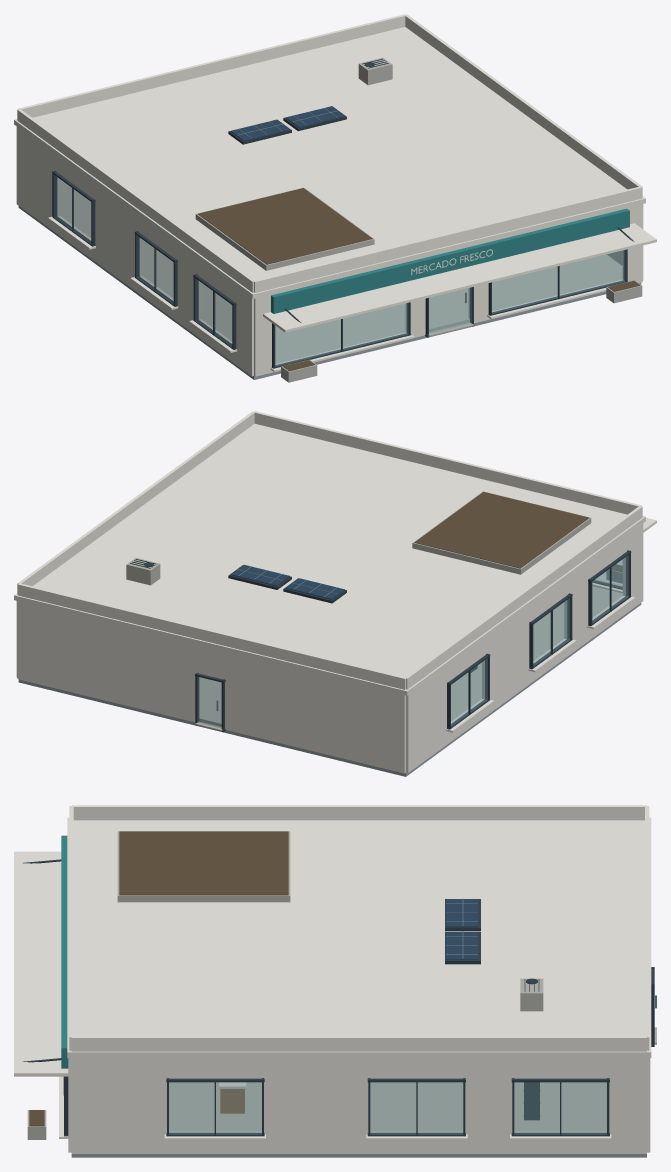
The model's file is Shop_6.fbx.
3 views of the same model, one above another, from view 1: azimuth 30°, elevation 25°; view 2: azimuth 150°, elevation 25°; view 3: azimuth 270°, elevation 25° (orthographic). The views are drawn at different scales.
Parts seen in each view (by area): view 1: Shop_6; view 2: Shop_6; view 3: Shop_6.
Boxes of the visible parts, x1,y1,x2,y2 form: Shop_6: (14, 14, 656, 382); Shop_6: (14, 411, 656, 776); Shop_6: (14, 805, 656, 1157).
Size of the model in its own units: 19.87 by 4.87 by 22.35.
